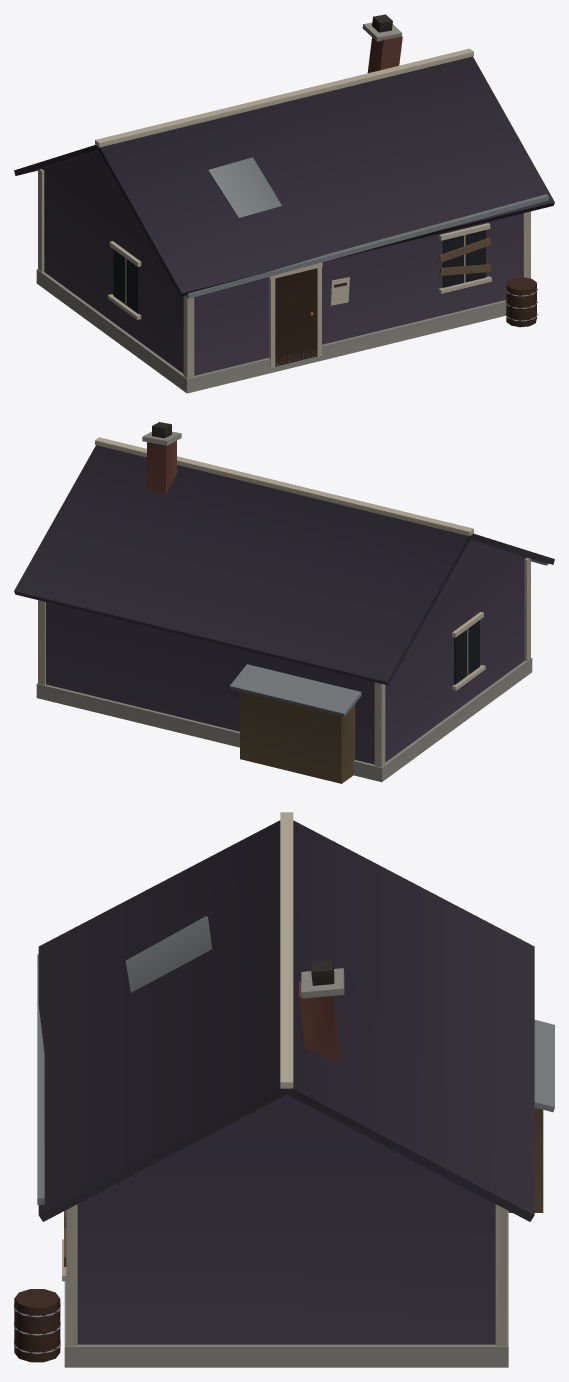
The model's file is shell_derelict.glb.
The picture shows the model from 3 angles, top to bottom: view 1: azimuth 30°, elevation 25°; view 2: azimuth 150°, elevation 25°; view 3: azimuth 270°, elevation 25°; orthographic projection. The views are drawn at different scales.
Parts seen in each view (by area): view 1: shell_derelict; view 2: shell_derelict; view 3: shell_derelict.
Part boxes in pixels (x1,y1,x2,y2): shell_derelict: [14, 14, 554, 393]; shell_derelict: [14, 422, 554, 783]; shell_derelict: [14, 812, 554, 1367].
Size of the model in its own units: 8.84 by 5.48 by 7.48.
